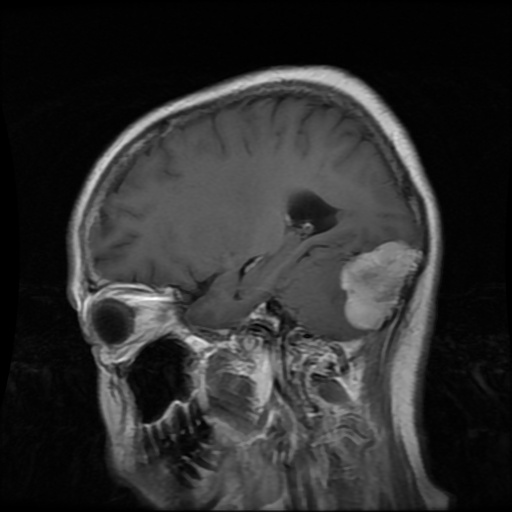meningioma: (339, 239, 423, 330)
